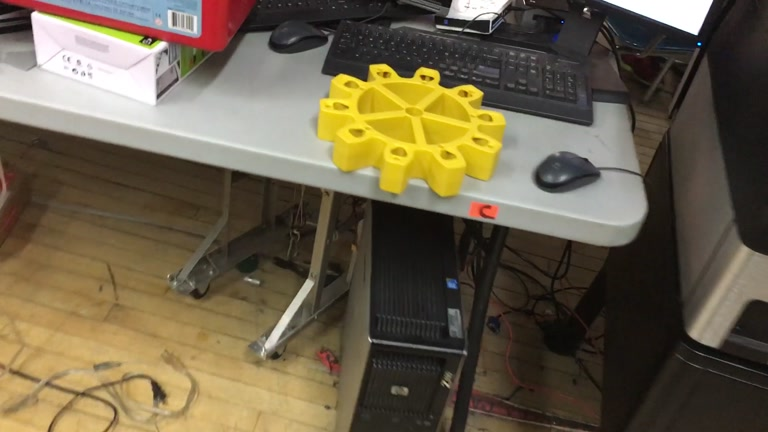gear: (315, 65, 507, 197)
